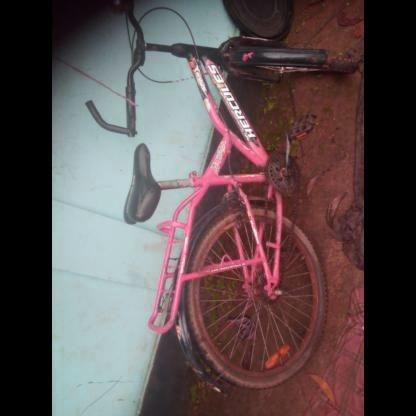Bicycle: (97, 0, 344, 406)
